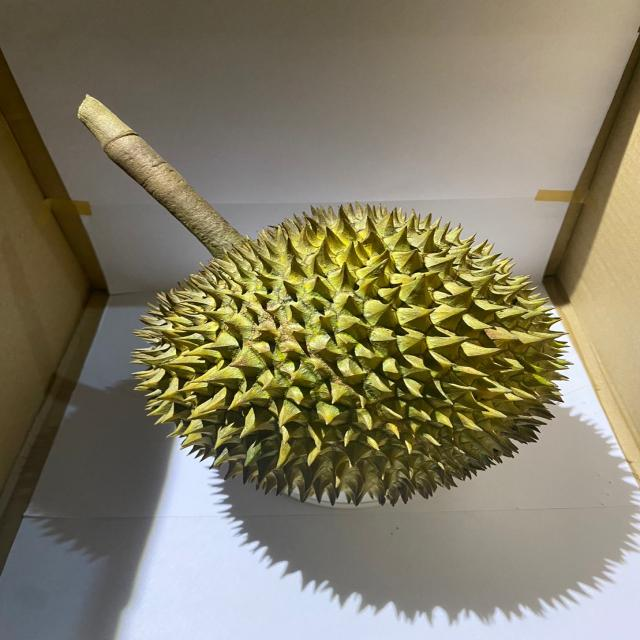immature: (127, 204, 572, 511)
